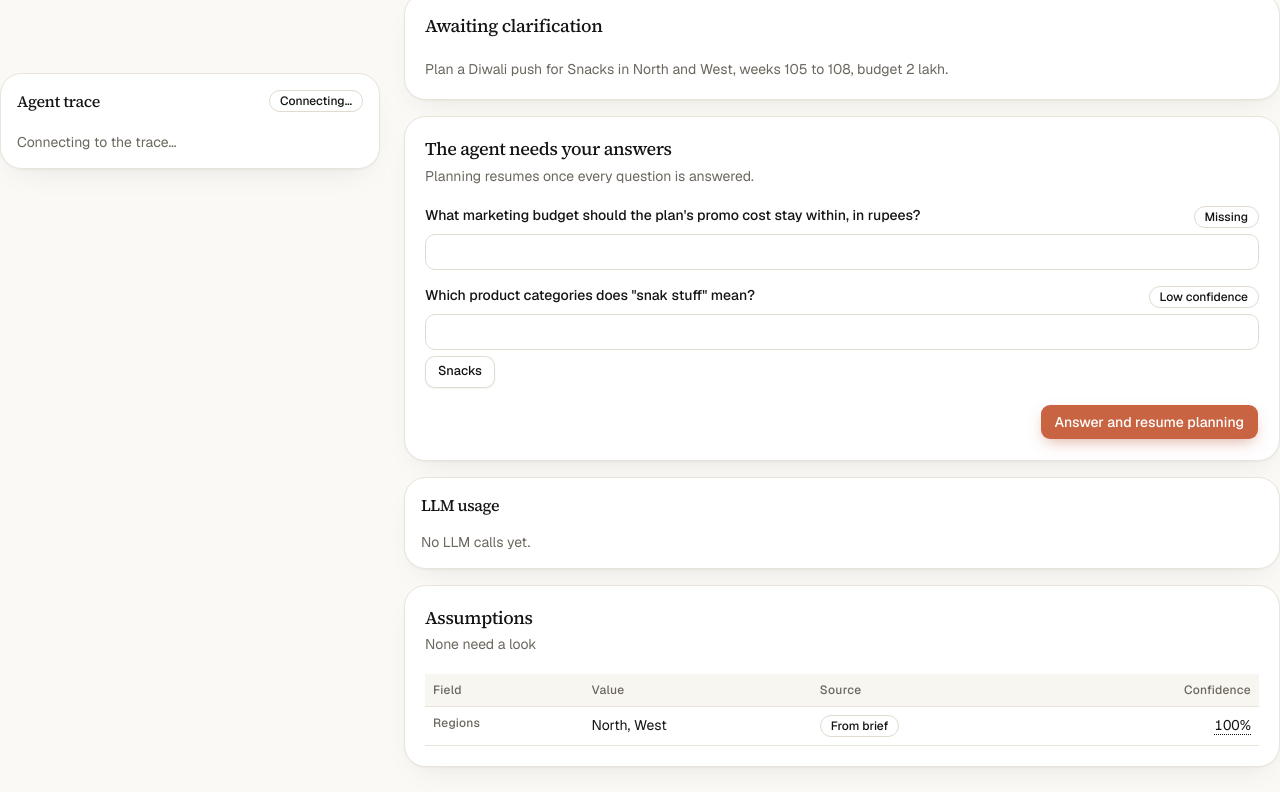
Test: SessionView › sends the answers, then polls the resumed planning through to the plan
expect the text "Awaiting clarification" is shown: met, box [425,13,602,38]
In the field labelled "What marketing budget should the plan's promo cost stay within, in rupees?": (842, 252) [425,234,1259,270], type "₹2 lakh"
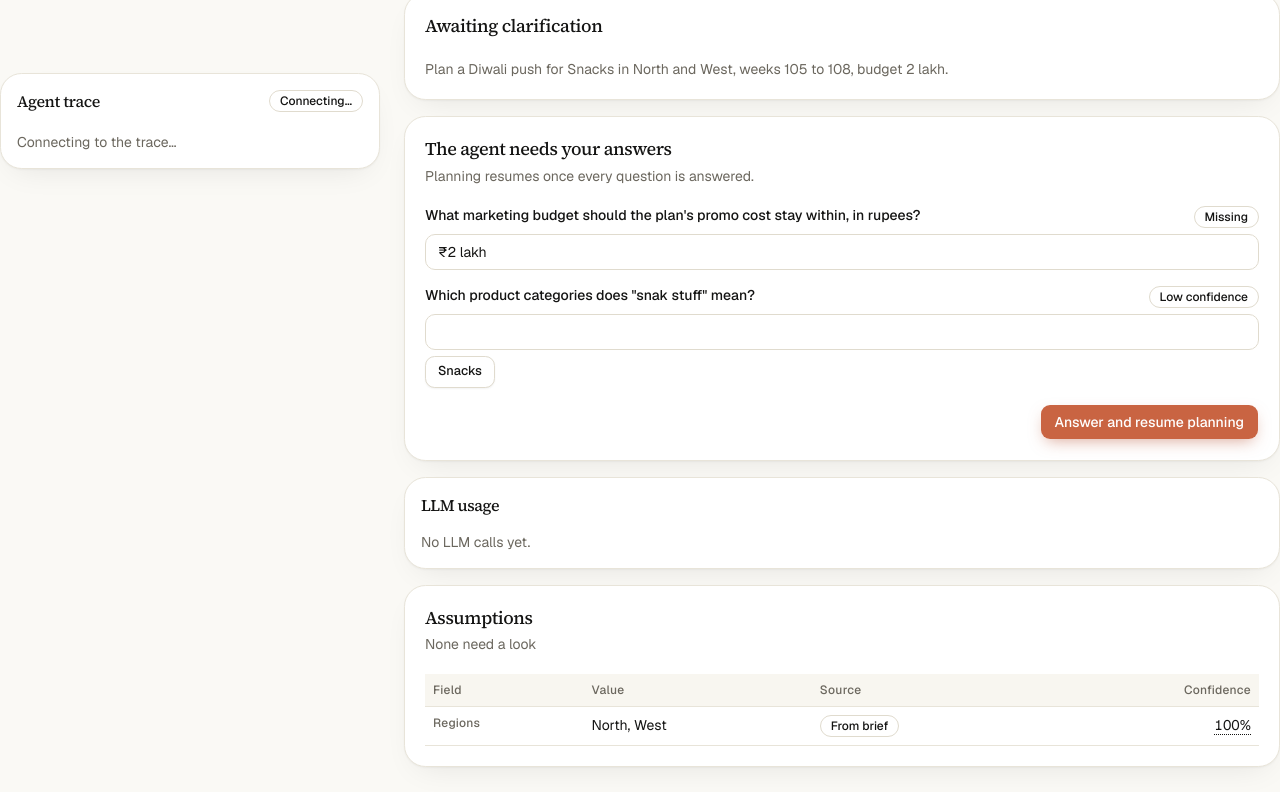
In the field labelled "Which product categories does \"snak stuff\" mean?": (842, 332) [425,314,1259,350], type "Snacks"
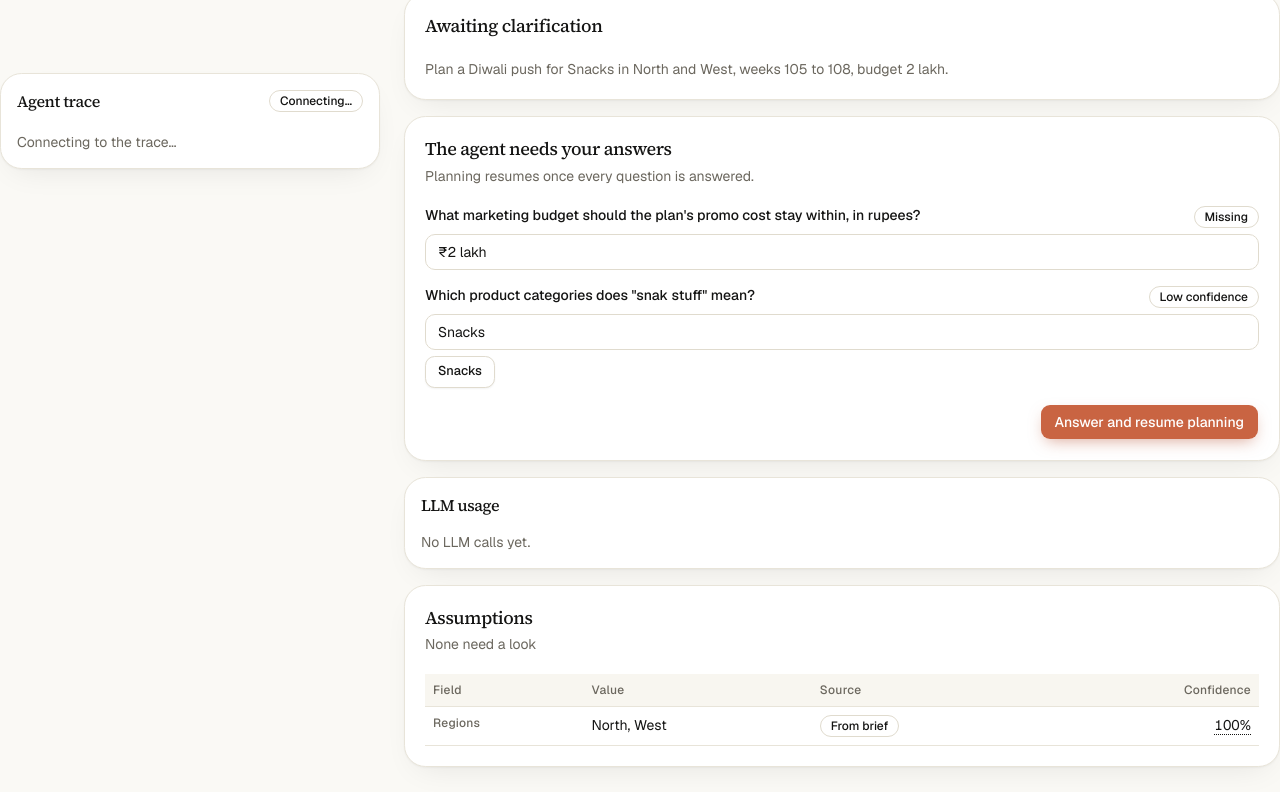
Click the button "Answer and resume planning": (1149, 422) [1040,404,1259,440]
Wait 2000 ms
(page scrolled)
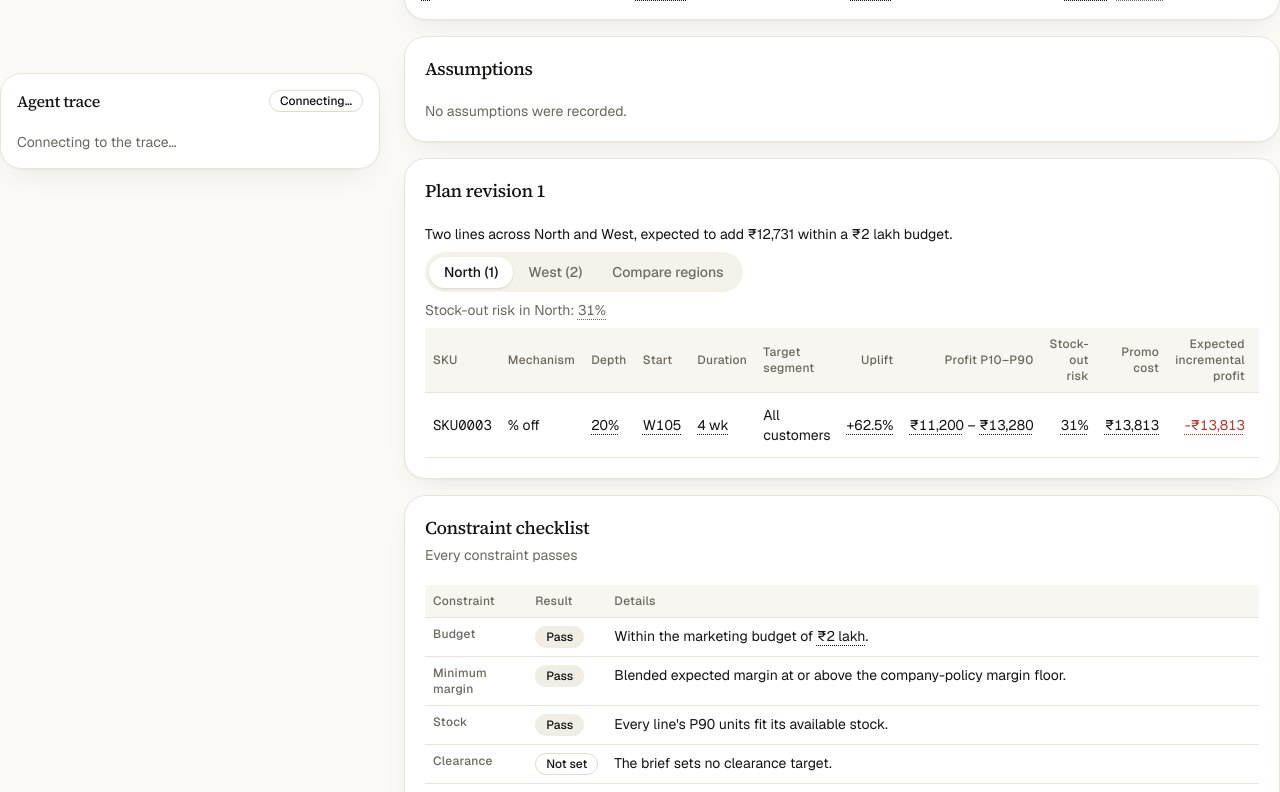
expect the table named "Plan lines in North" is shown: met, box [425,328,1259,458]
